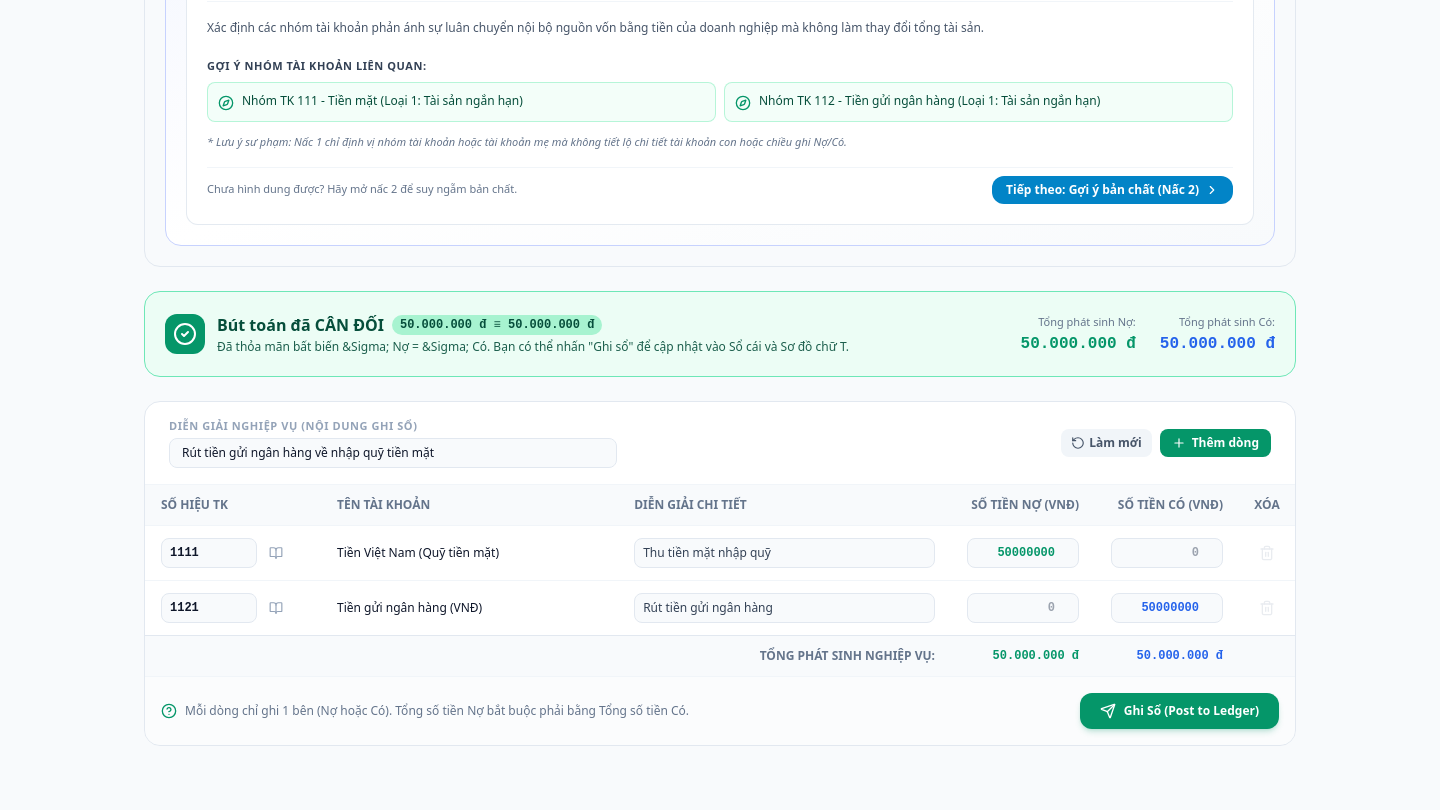
Scenario: INTERACTIVE JOURNALIZER WORKBENCH UNIT TESTS › 2. Dynamic Multi-Row Operations › should add a new empty row when "Thêm dòng" is clicked
The image size is (1440, 810).
(page scrolled)
What coordinates should you click on to do the following:
click the button "Thêm dòng"
I would click on:
 (1215, 443)
Its box is [1160,429,1271,457].
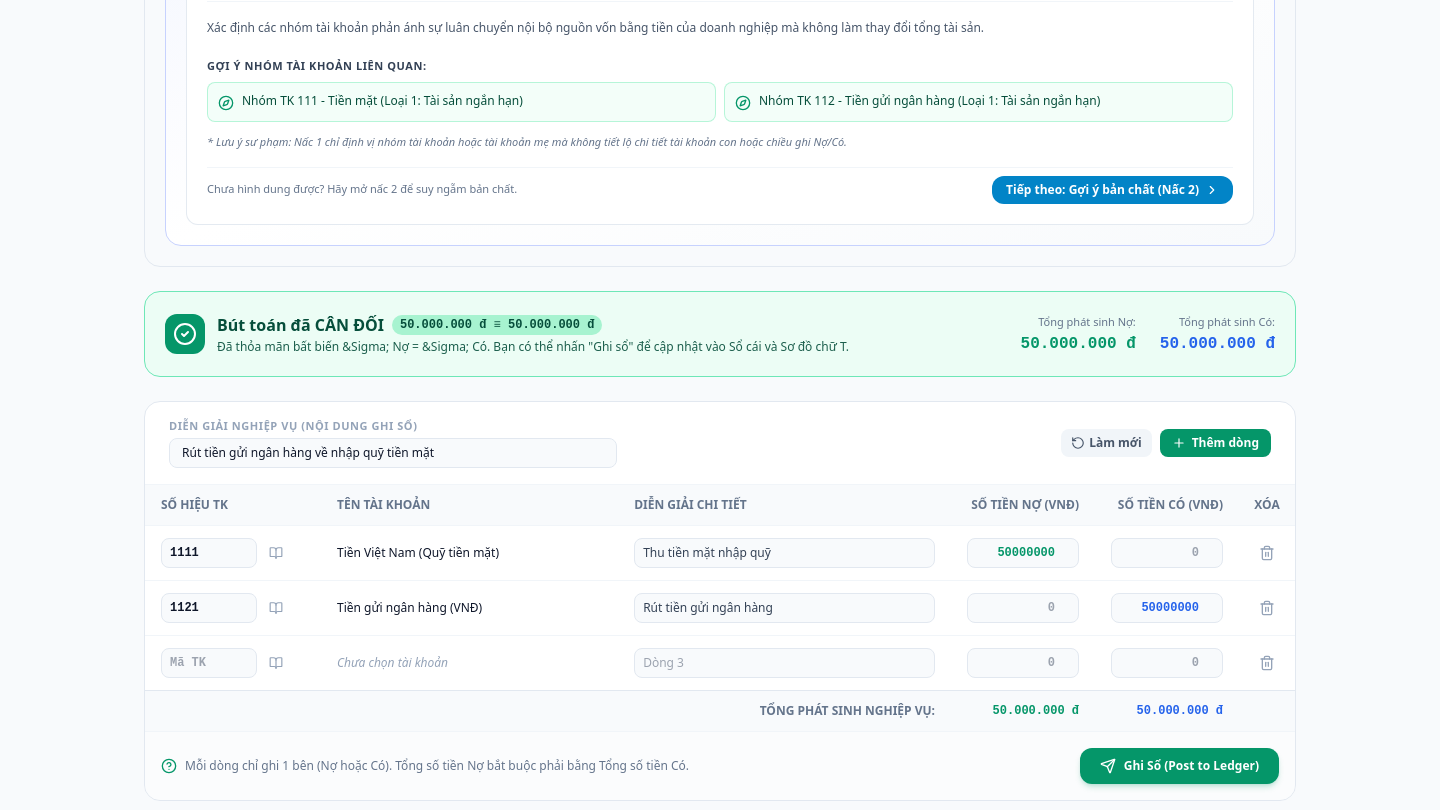
Check: the number of fields with placeholder "Mã TK" is 3, box [161,538,257,568]; [161,593,257,623]; [161,648,257,678]
